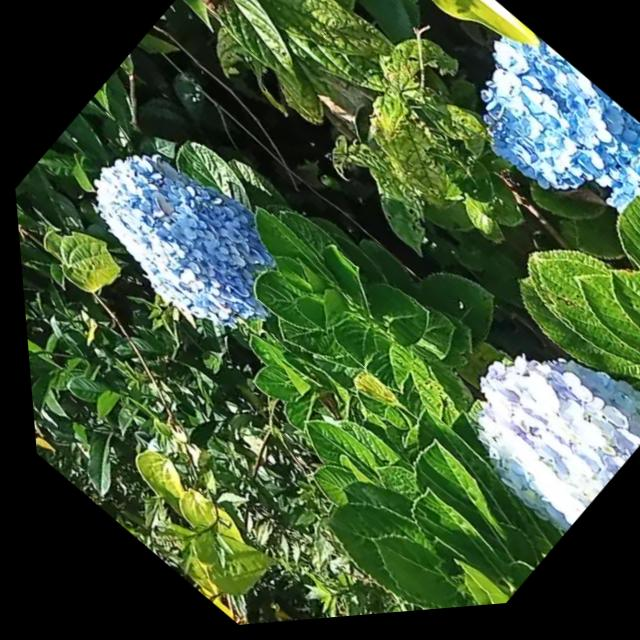Flower: (52, 112, 305, 366), (428, 13, 640, 287), (416, 298, 640, 552)
